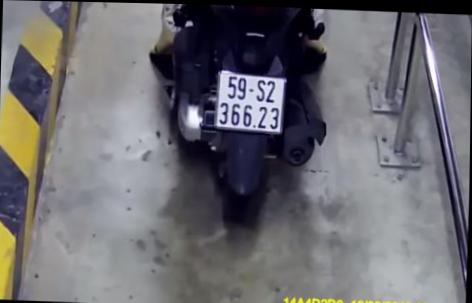LP: (213, 69, 286, 135)
